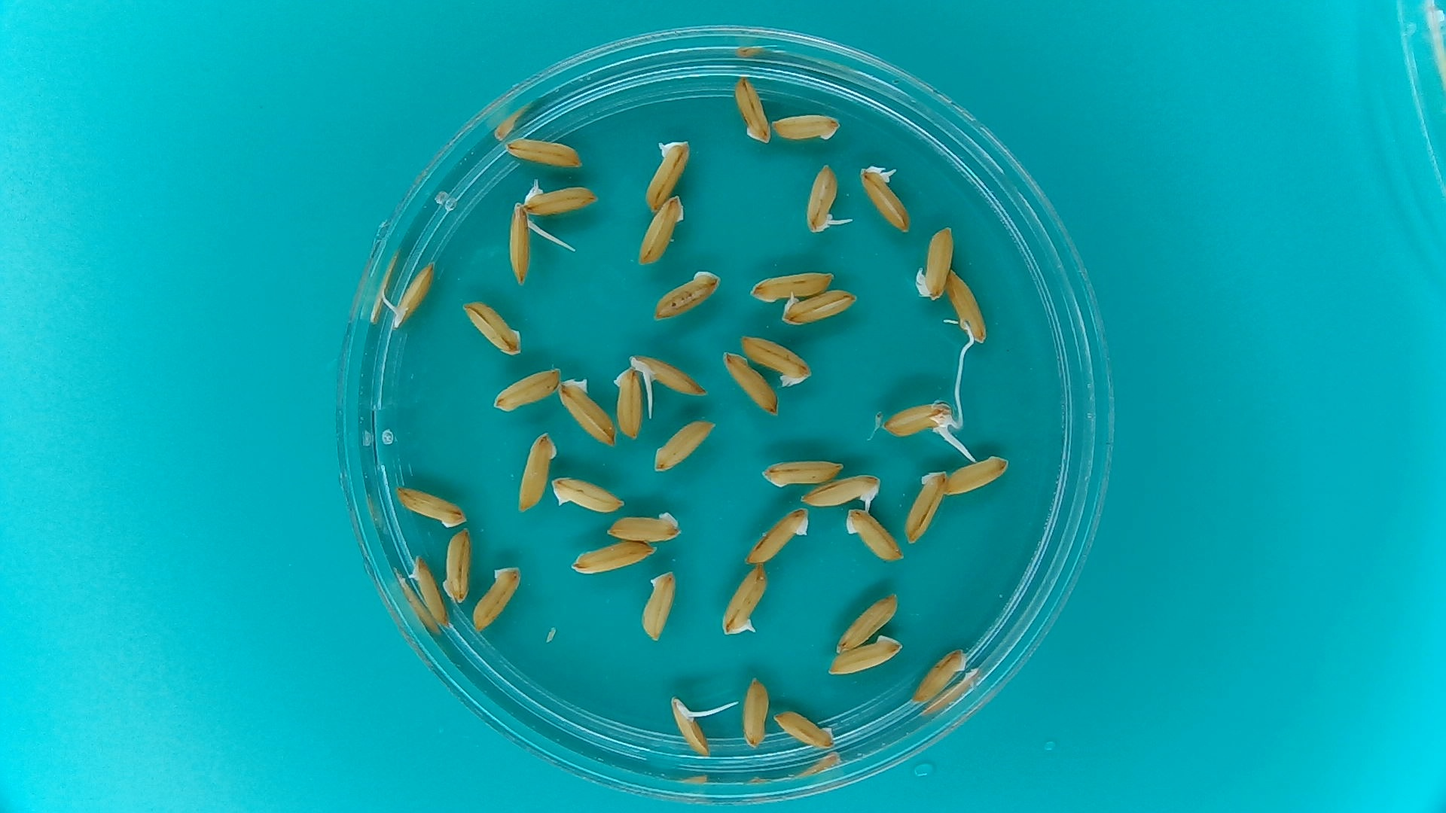no: (737, 331, 815, 388), (557, 375, 616, 448), (650, 264, 723, 322), (742, 505, 812, 565), (833, 592, 899, 654), (720, 347, 779, 416), (943, 267, 990, 351), (650, 416, 718, 474), (634, 192, 687, 266), (462, 300, 527, 358), (471, 562, 523, 633), (516, 430, 559, 515), (490, 364, 562, 414), (910, 644, 968, 706), (569, 537, 658, 577), (746, 264, 837, 303), (843, 505, 905, 562), (904, 467, 948, 545), (826, 634, 905, 677), (393, 483, 468, 528), (912, 222, 954, 300), (502, 131, 587, 169), (549, 473, 627, 514), (601, 507, 685, 544), (731, 72, 773, 145), (758, 455, 848, 489), (943, 451, 1010, 496), (639, 568, 679, 643), (770, 708, 835, 750), (768, 109, 843, 144), (611, 364, 645, 441), (441, 526, 473, 605), (740, 674, 769, 749)
yes: (856, 160, 912, 235), (626, 351, 711, 400), (641, 136, 693, 214), (718, 563, 769, 640), (880, 393, 959, 442), (802, 160, 851, 236), (385, 260, 437, 329), (798, 471, 885, 511), (778, 286, 860, 327), (517, 178, 602, 216), (505, 200, 541, 285), (409, 553, 447, 629), (669, 696, 711, 757)
